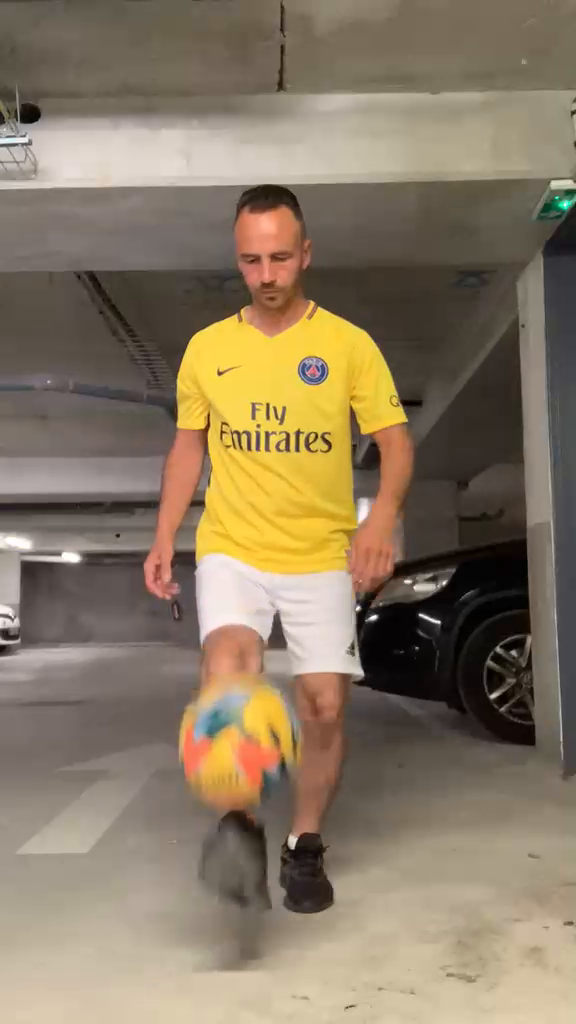ball: (169, 673, 308, 812)
